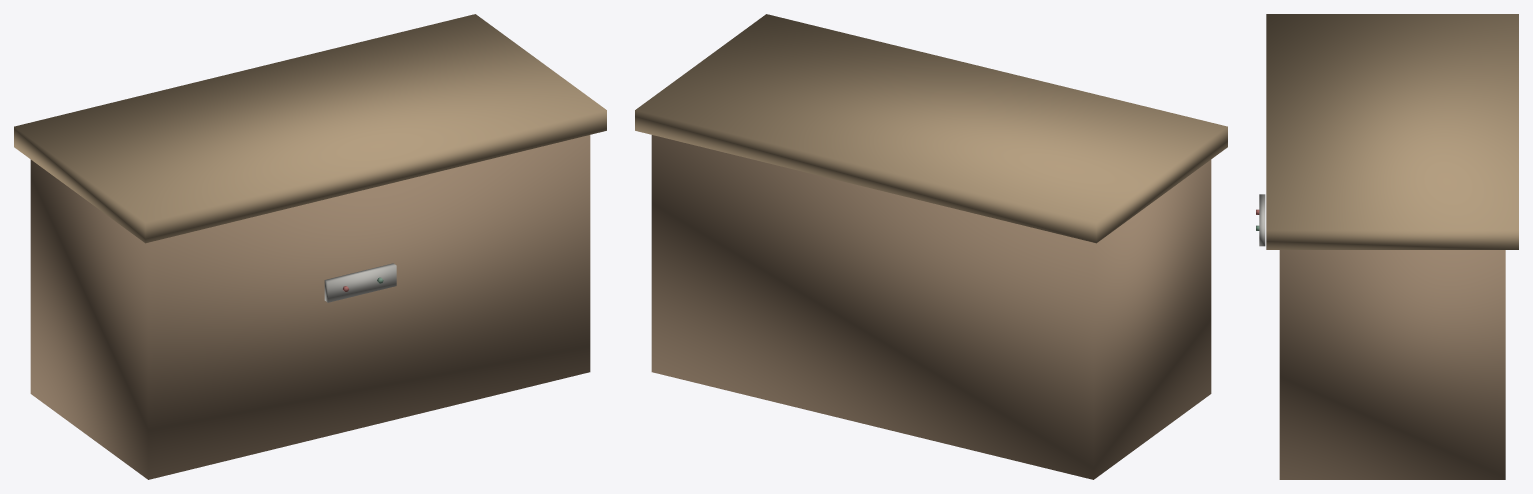
Rendered from funeral_reception_counter__deep.glb.
3 views of the same model, side by side, from view 1: azimuth 30°, elevation 25°; view 2: azimuth 150°, elevation 25°; view 3: azimuth 270°, elevation 25° (orthographic). The views are drawn at different scales.
Parts seen in each view (by area): view 1: world; view 2: world; view 3: world.
Part boxes in pixels (x1,y1,x2,y2): world: (14, 14, 606, 479); world: (635, 14, 1227, 479); world: (1256, 14, 1518, 479).
Size of the model in its own units: 1.88 by 1.03 by 0.965.
